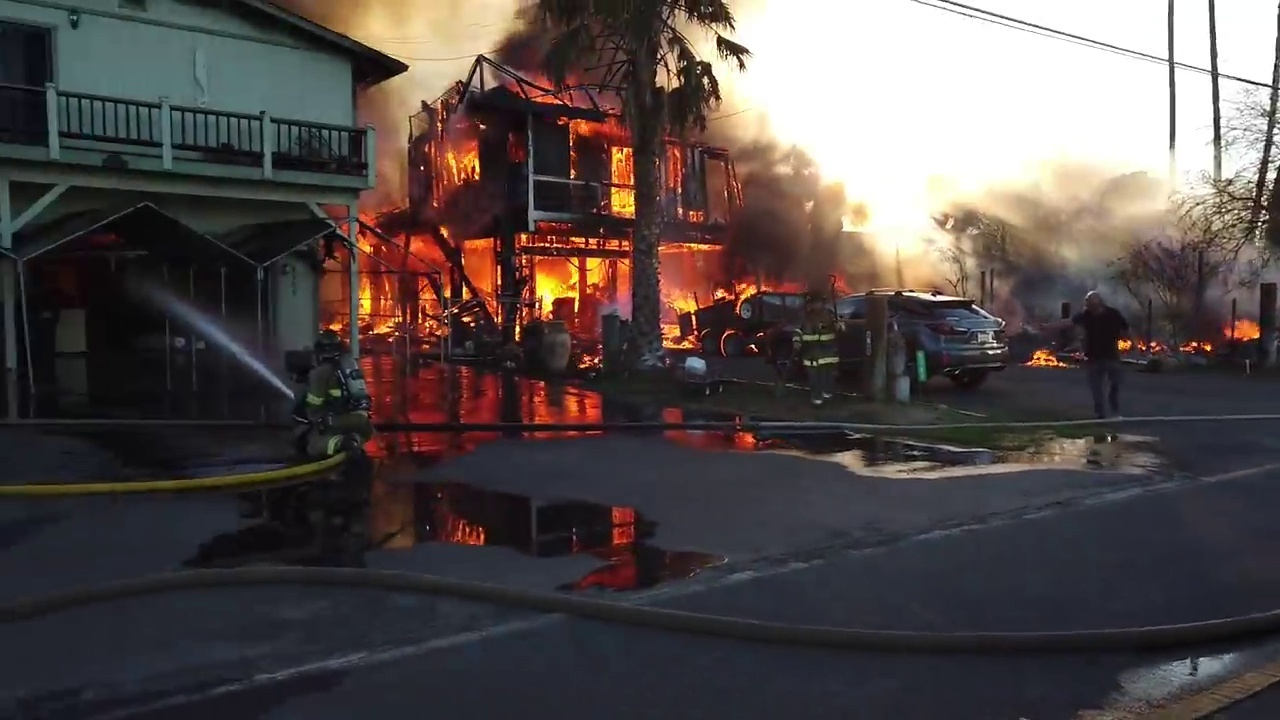fire: (333, 58, 805, 418), (606, 142, 637, 213), (1116, 339, 1213, 356), (663, 145, 682, 188), (1025, 348, 1072, 365), (678, 199, 711, 221), (1226, 318, 1259, 339), (831, 273, 855, 291)
smoke: (915, 121, 1280, 313), (709, 84, 866, 271), (302, 2, 514, 54), (352, 77, 408, 207), (436, 104, 481, 149)
